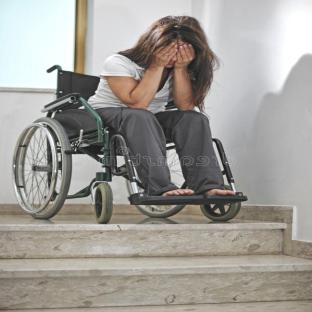Human: (89, 16, 235, 196)
